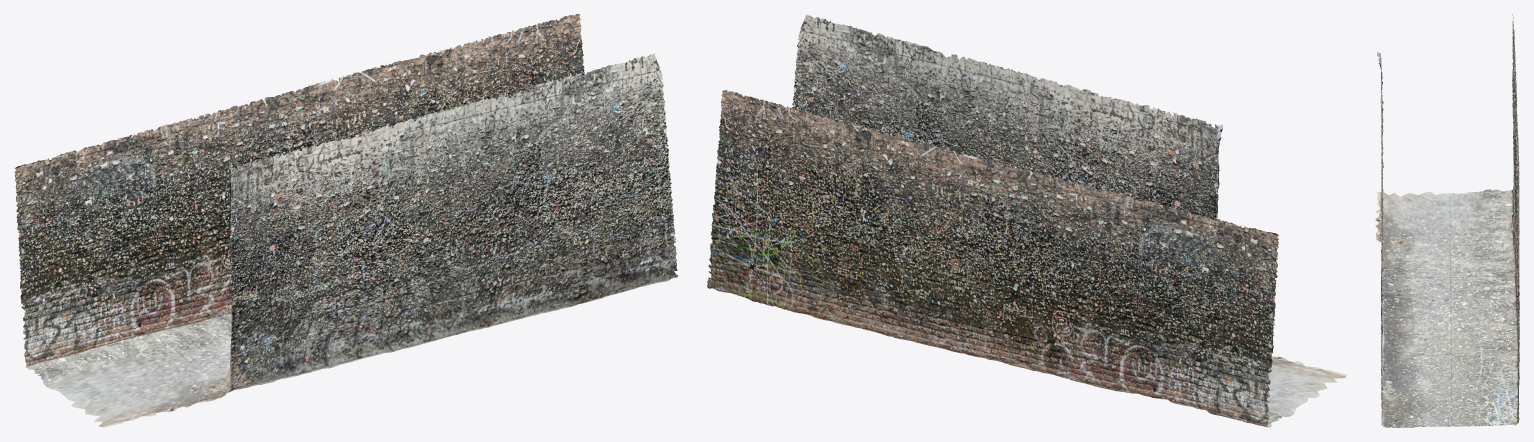
The picture shows the model from 3 angles, left to right: view 1: azimuth 30°, elevation 25°; view 2: azimuth 150°, elevation 25°; view 3: azimuth 270°, elevation 25°; orthographic projection. The views are drawn at different scales.
Parts seen in each view (by area): view 1: Object_2, Object_3, Object_4; view 2: Object_2, Object_3, Object_4; view 3: Object_3, Object_2, Object_4.
Part boxes in pixels (x1,y1,x2,y2): Object_2: (14,14,678,412); Object_3: (40,14,669,427); Object_4: (45,22,677,408); Object_2: (718,14,1286,427); Object_3: (713,58,1346,417); Object_4: (707,52,1298,416); Object_3: (1375,32,1519,426); Object_2: (1375,14,1519,426); Object_4: (1381,91,1519,427).
Bounding box in the file's own units: 7.82 × 3.04 × 1.95.
3 materials, 3 textured.
